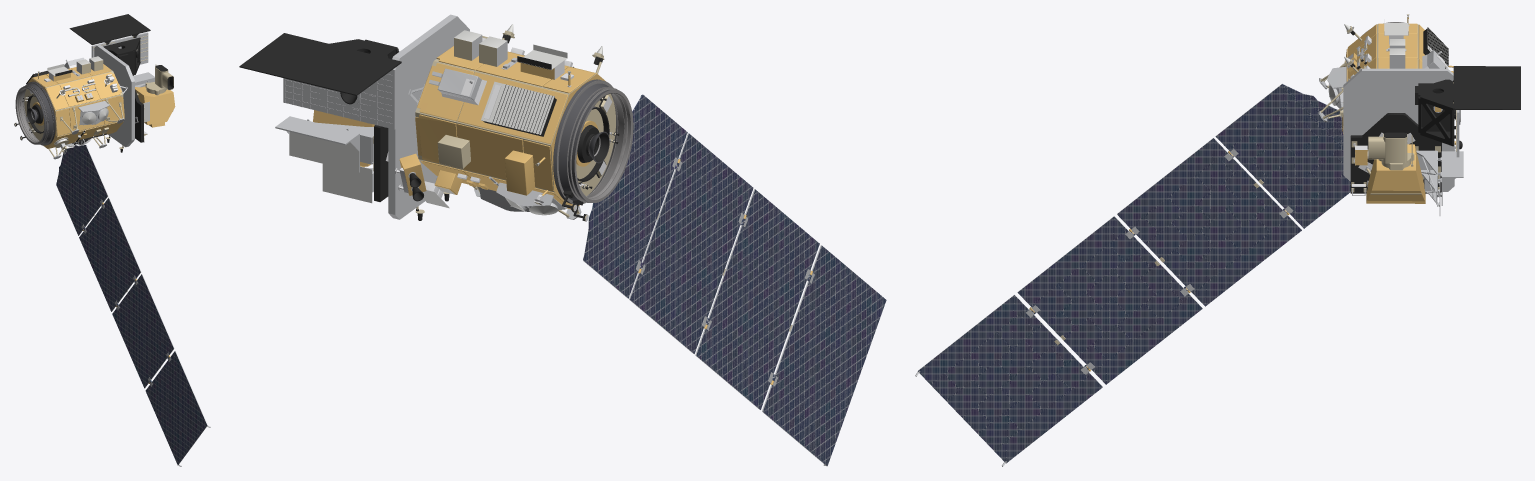
The model's file is landsat-8.glb.
3 renders of one model, left to right at view 1: azimuth 30°, elevation 25°; view 2: azimuth 150°, elevation 25°; view 3: azimuth 270°, elevation 25°, orthographic. The views are drawn at different scales.
Parts seen in each view (by area): view 1: Layer_0; view 2: Layer_0; view 3: Layer_0.
Part boxes in pixels (left/top/right/bottom): Layer_0: left=14, top=14, right=210, bottom=466; Layer_0: left=239, top=14, right=886, bottom=466; Layer_0: left=915, top=14, right=1520, bottom=466.
Bounding box in the file's own units: 4.97 × 10.04 × 12.26.
10 materials, 1 textured.
